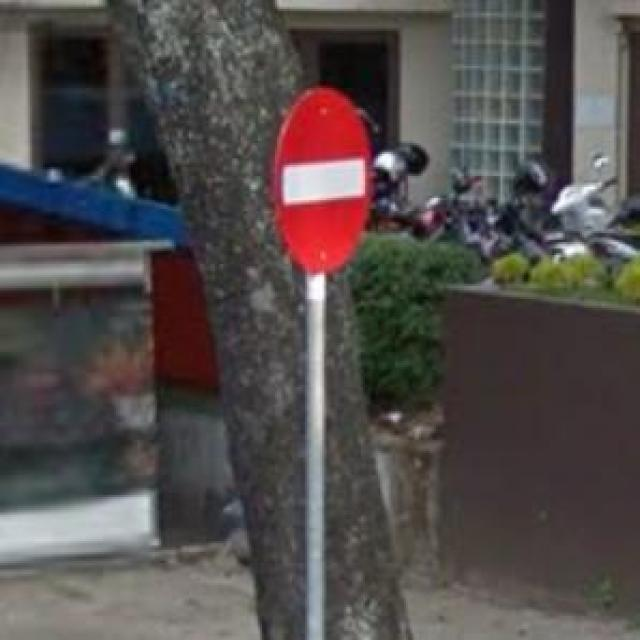traffic sign: (275, 83, 370, 274)
